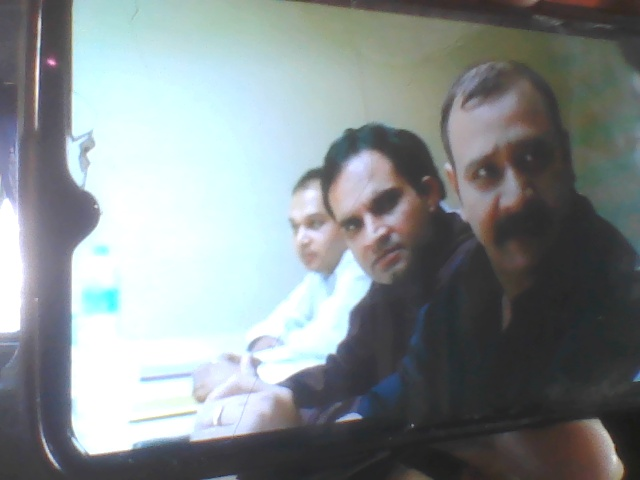fake: (443, 52, 595, 267), (323, 117, 451, 298)
